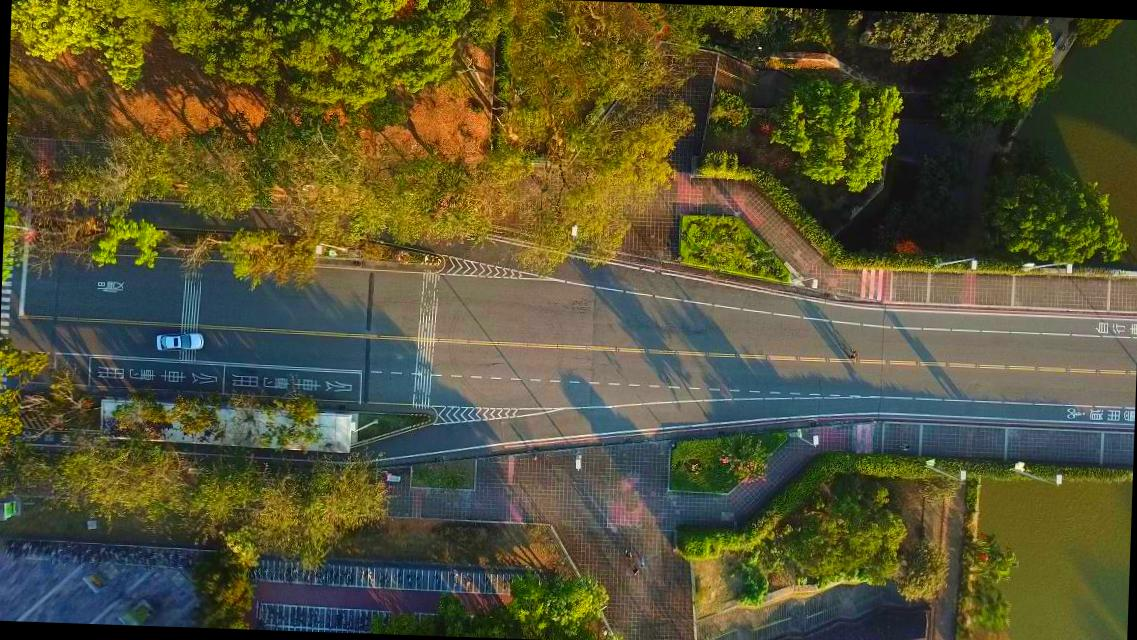vehicle: (154, 331, 204, 352)
